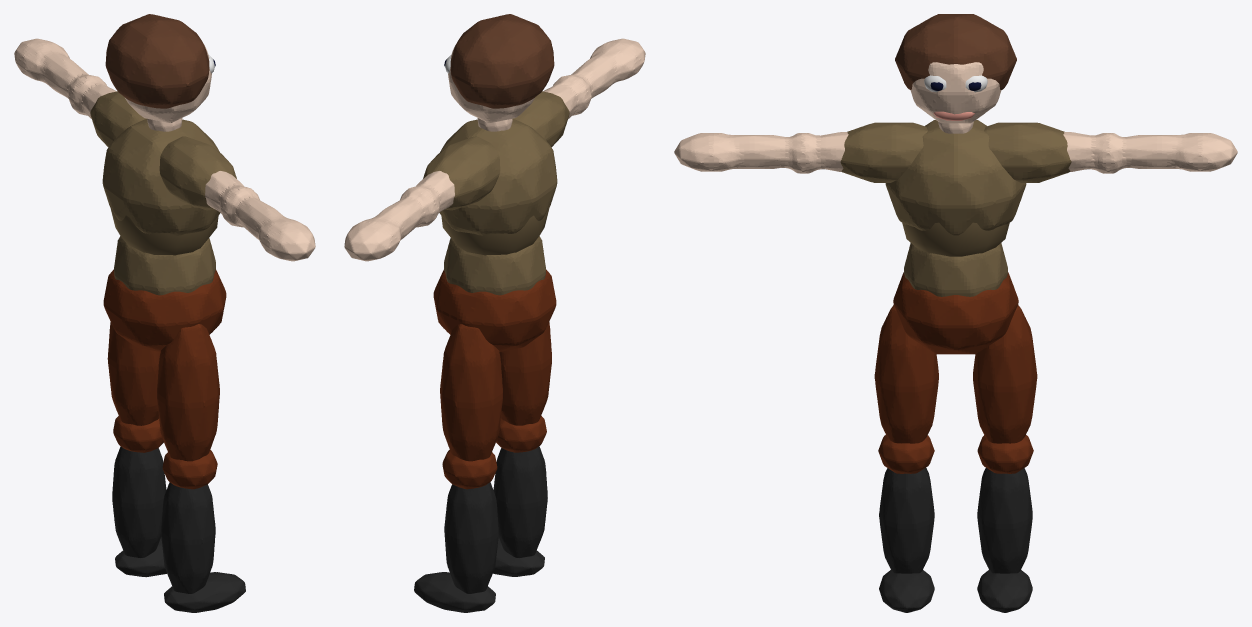
Rendered from AltPlayer.fbx.
3 views of the same model, side by side, from view 1: azimuth 30°, elevation 25°; view 2: azimuth 150°, elevation 25°; view 3: azimuth 270°, elevation 25° (orthographic).
Visible parts, largest first — view 1: Icosphere.013, Icosphere.014, Icosphere.001, Icosphere.005, Icosphere.011, Icosphere.006, Icosphere.012, Icosphere.002, Icosphere.015, Icosphere.007, Icosphere, Icosphere.004; view 2: Icosphere.013, Icosphere.014, Icosphere.001, Icosphere.005, Icosphere.011, Icosphere.006, Icosphere.012, Icosphere.002, Icosphere.015, Icosphere.007, Icosphere, Icosphere.004; view 3: Icosphere.013, Icosphere.001, Icosphere.011, Icosphere.014, Icosphere.012, Icosphere.006, Icosphere.005, Icosphere.002, Icosphere.015, Icosphere.004, Icosphere.007, Icosphere.
Boxes of the visible parts, box(x1,y1,x2,y2) form: Icosphere.013: box(107, 322, 219, 461); Icosphere.014: box(112, 446, 215, 593); Icosphere.001: box(14, 38, 315, 261); Icosphere.005: box(105, 14, 209, 108); Icosphere.011: box(102, 118, 220, 235); Icosphere.006: box(103, 269, 226, 351); Icosphere.012: box(90, 91, 236, 210); Icosphere.002: box(114, 236, 215, 295); Icosphere.015: box(115, 537, 245, 612); Icosphere.007: box(113, 416, 217, 489); Icosphere: box(109, 203, 218, 255); Icosphere.004: box(125, 45, 211, 122); Icosphere.013: box(440, 322, 551, 461); Icosphere.014: box(444, 446, 547, 593); Icosphere.001: box(344, 38, 645, 261); Icosphere.005: box(450, 14, 554, 108); Icosphere.011: box(439, 118, 557, 235); Icosphere.006: box(433, 269, 556, 351); Icosphere.012: box(423, 91, 569, 210); Icosphere.002: box(444, 236, 545, 295); Icosphere.015: box(414, 537, 544, 612); Icosphere.007: box(442, 415, 546, 489); Icosphere: box(441, 203, 550, 255); Icosphere.004: box(448, 45, 534, 122); Icosphere.013: box(874, 305, 1037, 443); Icosphere.001: box(674, 132, 1237, 173); Icosphere.011: box(885, 120, 1026, 235); Icosphere.014: box(879, 468, 1032, 573); Icosphere.012: box(840, 122, 1071, 182); Icosphere.006: box(893, 272, 1018, 354); Icosphere.005: box(895, 14, 1016, 89); Icosphere.002: box(904, 243, 1007, 296); Icosphere.015: box(879, 570, 1032, 612); Icosphere.004: box(910, 62, 1001, 123); Icosphere.007: box(878, 435, 1033, 473); Icosphere: box(902, 222, 1009, 256).
Bounding box in the file's own units: 280 × 1429 × 1271.
